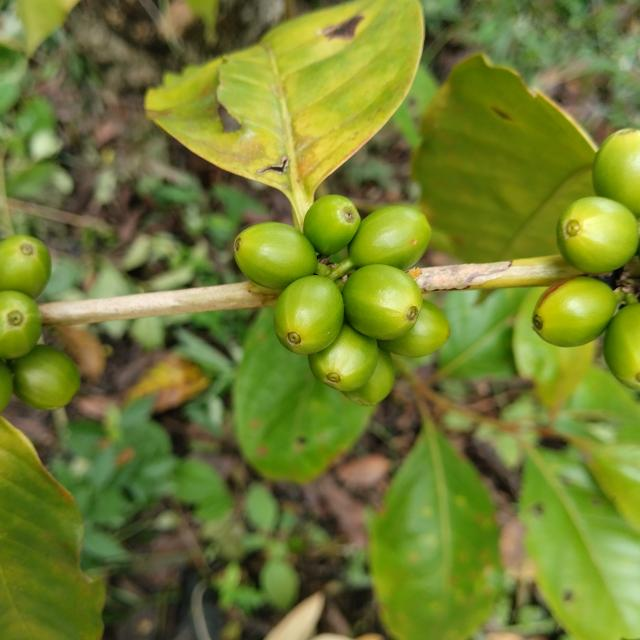green: (558, 196, 640, 273), (342, 264, 423, 340), (533, 276, 618, 347), (234, 222, 317, 290), (274, 275, 344, 355), (348, 206, 431, 270), (308, 323, 379, 392), (8, 345, 79, 410), (378, 299, 450, 358), (594, 128, 640, 217), (303, 195, 361, 256), (0, 235, 50, 299), (605, 303, 640, 391), (343, 349, 395, 406), (0, 290, 41, 359), (0, 360, 12, 413)
